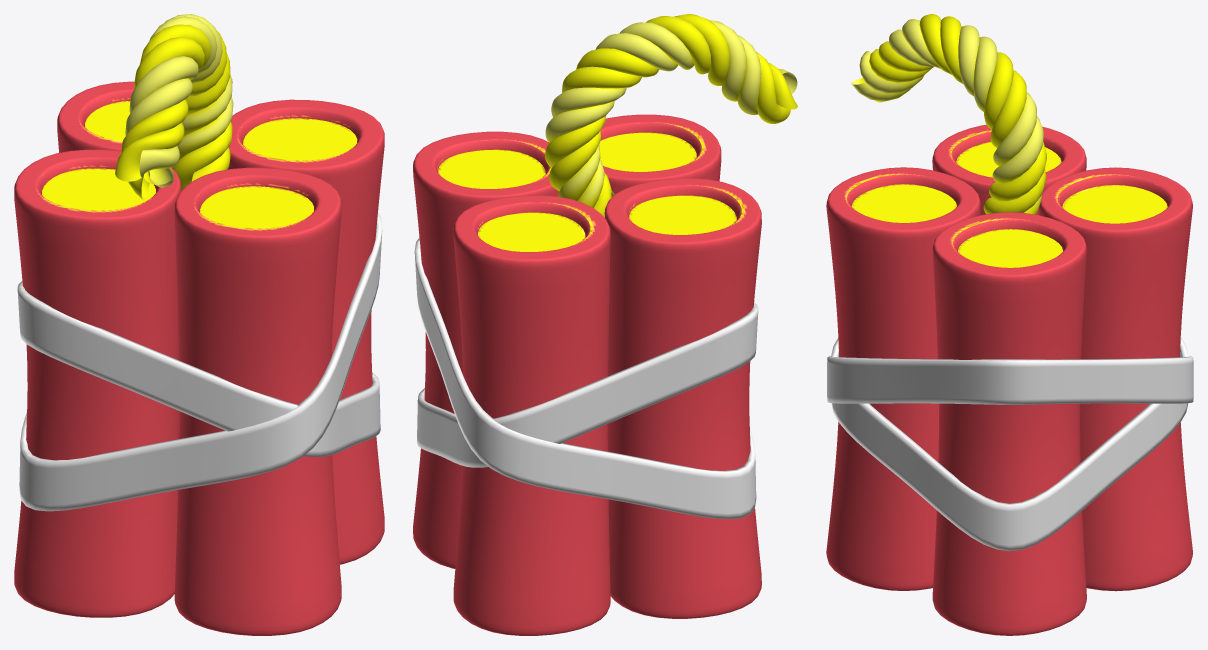
The model's file is PowerBomb.fbx.
3 renders of one model, left to right at view 1: azimuth 30°, elevation 25°; view 2: azimuth 150°, elevation 25°; view 3: azimuth 270°, elevation 25°, orthographic. The views are drawn at different scales.
Parts seen in each view (by area): view 1: di\namite_rope.002; view 2: di\namite_rope.002; view 3: di\namite_rope.002.
Boxes of the visible parts, <box> form: di\namite_rope.002: <box>14,14,384,635</box>; di\namite_rope.002: <box>413,14,797,635</box>; di\namite_rope.002: <box>826,14,1193,635</box>.
Size of the model in its own units: 177 by 177 by 274.
